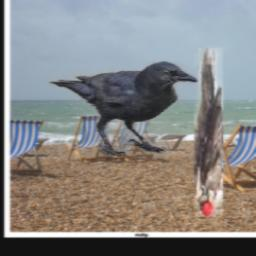Crow: (49, 61, 199, 157)
Woodpecker: (195, 48, 224, 217)
